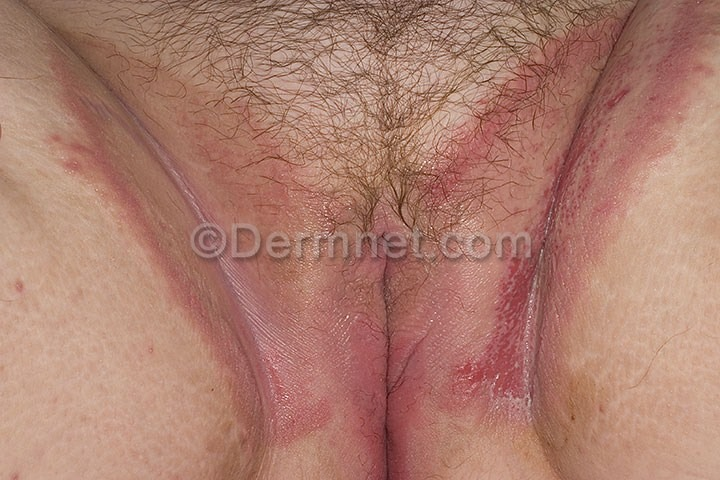Psoriasis: (156, 187, 334, 455), (456, 152, 615, 437), (569, 12, 698, 165)
